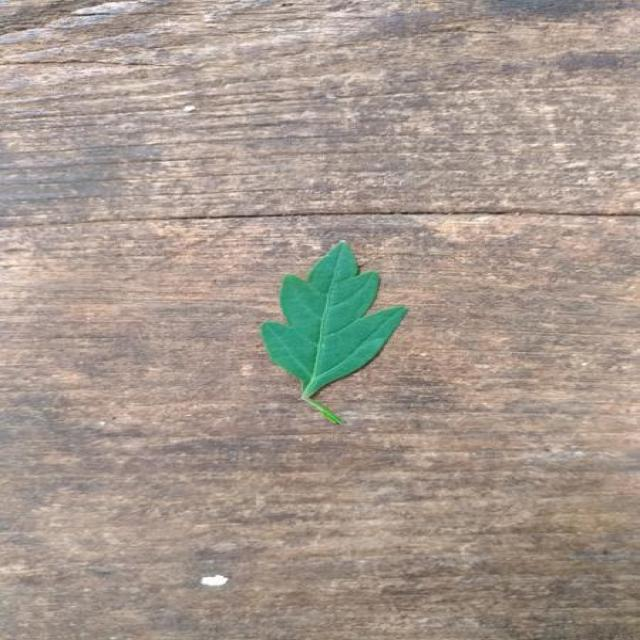balloon_Vine: (262, 241, 407, 424)
